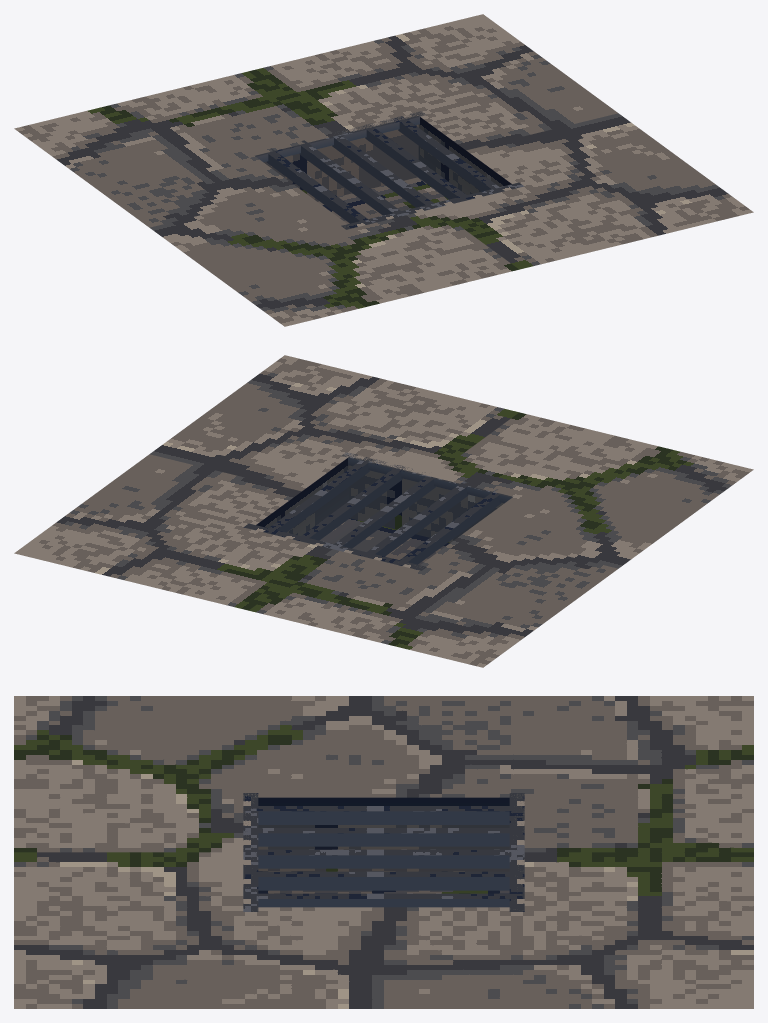
Rendered from dgn.floor__grate.glb.
The picture shows the model from 3 angles, top to bottom: view 1: azimuth 30°, elevation 25°; view 2: azimuth 150°, elevation 25°; view 3: azimuth 270°, elevation 25°; orthographic projection. The views are drawn at different scales.
Visible parts, largest first — view 1: kit_shell_floor, kit_grate, kit_shell_sump; view 2: kit_shell_floor, kit_grate, kit_shell_sump; view 3: kit_shell_floor, kit_grate, kit_shell_sump.
Boxes of the visible parts, bbox=[...] form: kit_shell_floor: bbox=[14, 14, 753, 326]; kit_grate: bbox=[255, 111, 524, 229]; kit_shell_sump: bbox=[264, 117, 511, 223]; kit_shell_floor: bbox=[14, 355, 753, 667]; kit_grate: bbox=[243, 452, 512, 570]; kit_shell_sump: bbox=[256, 458, 503, 564]; kit_shell_floor: bbox=[14, 696, 753, 1008]; kit_grate: bbox=[243, 793, 524, 911]; kit_shell_sump: bbox=[258, 797, 509, 893].
Bounding box in the file's own units: 4 × 0.5 × 4.
Materials: 3 (3 with a texture image).
